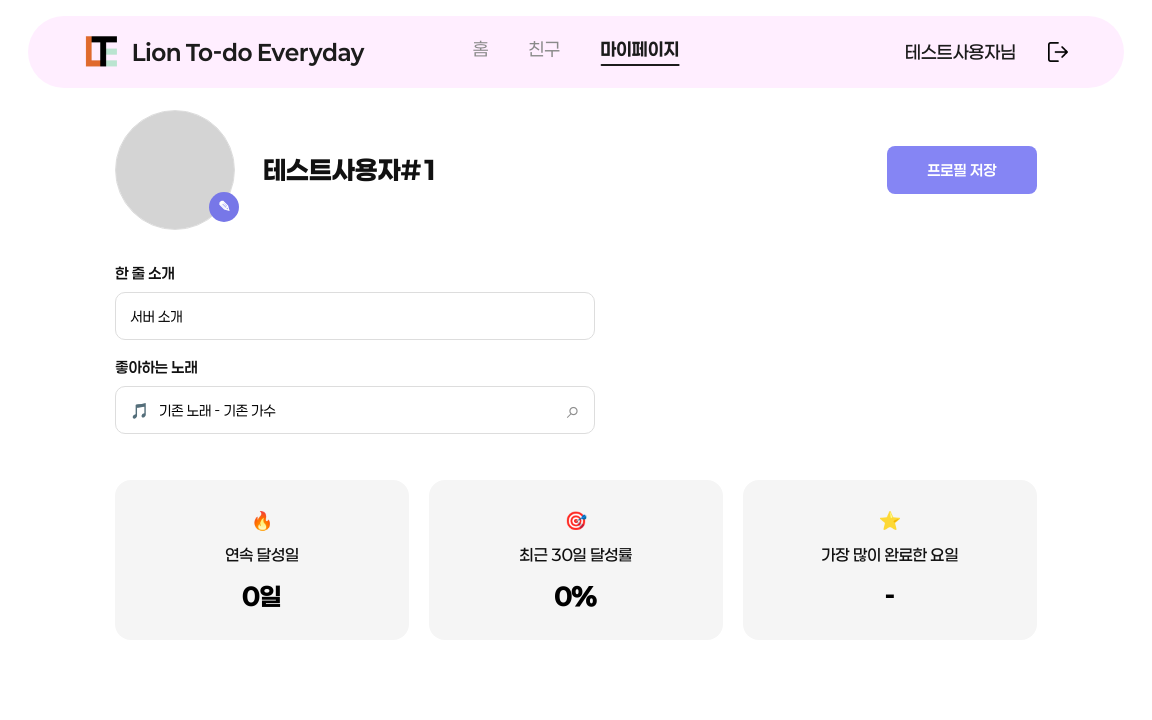
노래 저장만 실패하면 이미 저장된 소개와 실패한 변경을 구분해 표시한다
This screenshot has width=1152, height=720.
Step 1. Replace the text in the field labelled "한 줄 소개" with "소개만 저장" → (355, 316), box [115,292,595,340]
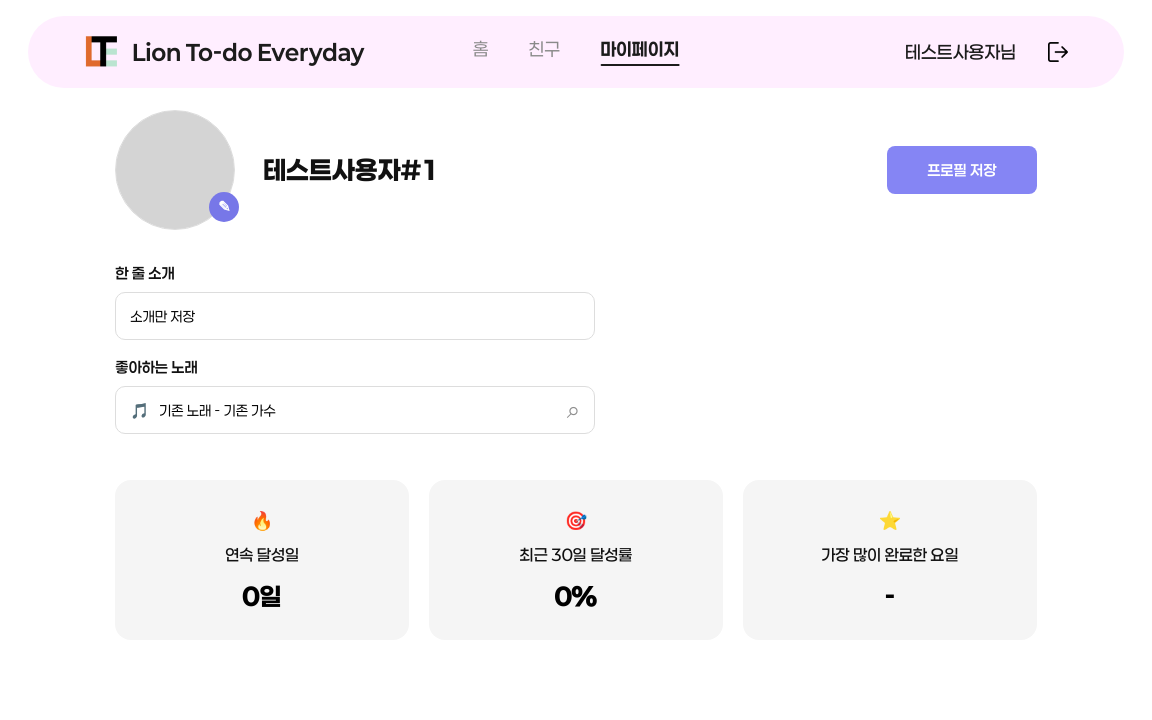
Step 2. Replace the text in the field labelled "좋아하는 노래" with "새 노래" → (362, 410), box [157,400,567,420]
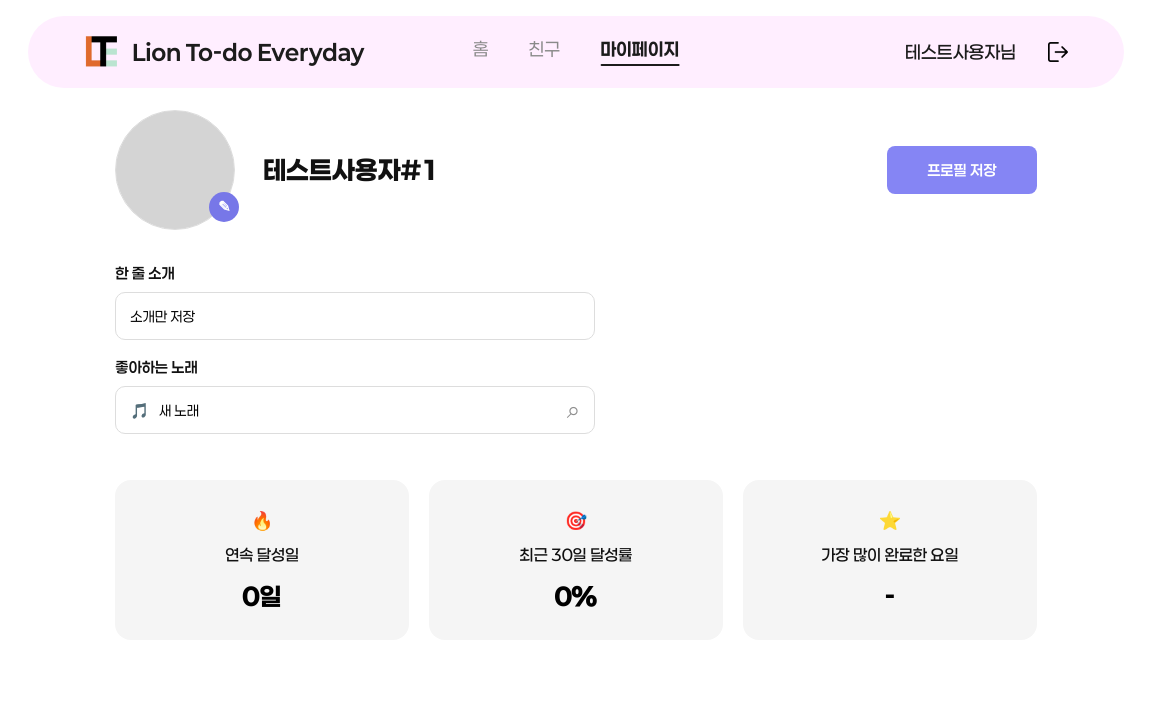
Step 3. Click the button named "노래 검색" → (574, 410), box [567,396,580,424]
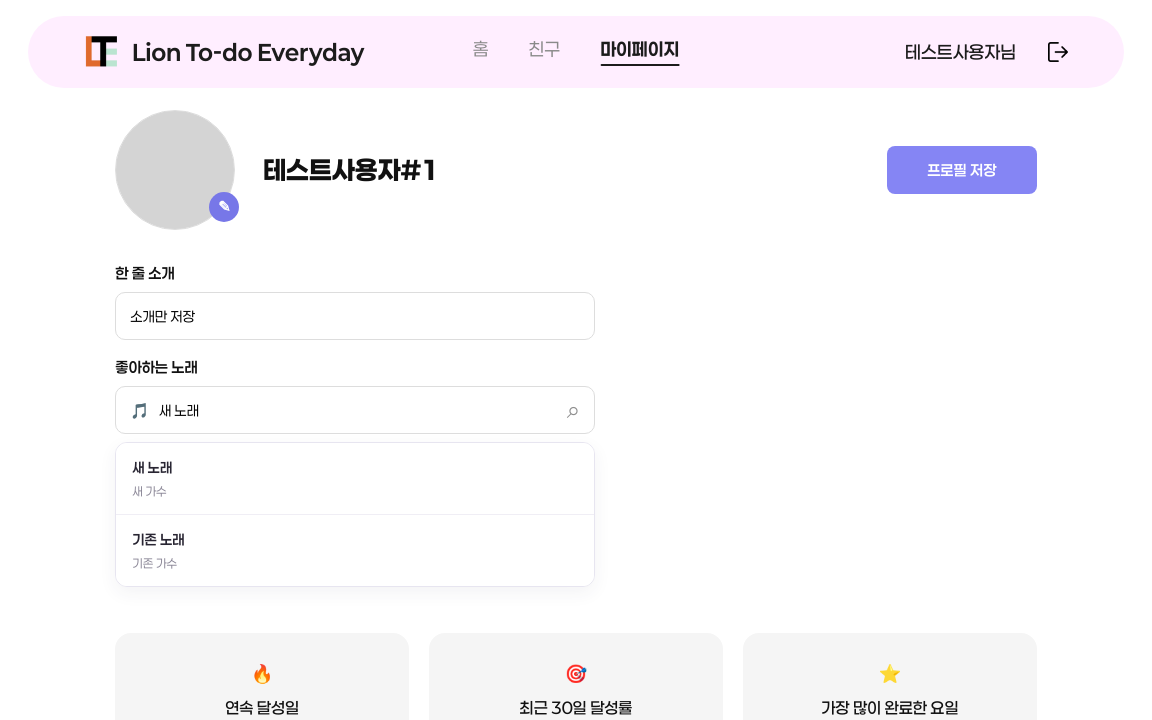
Step 4. Click the button "새 노래 새 가수" → (152, 468), box [116,443,594,515]
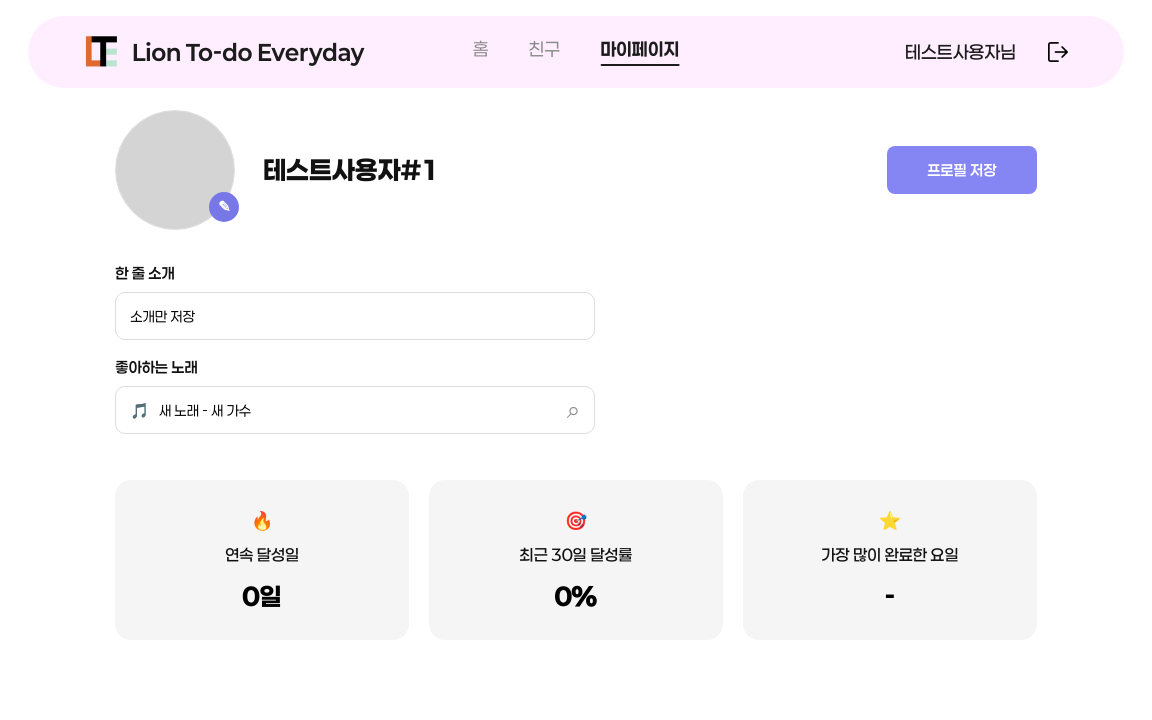
Step 5. Click the button "프로필 저장" → (962, 170), box [887,146,1037,194]
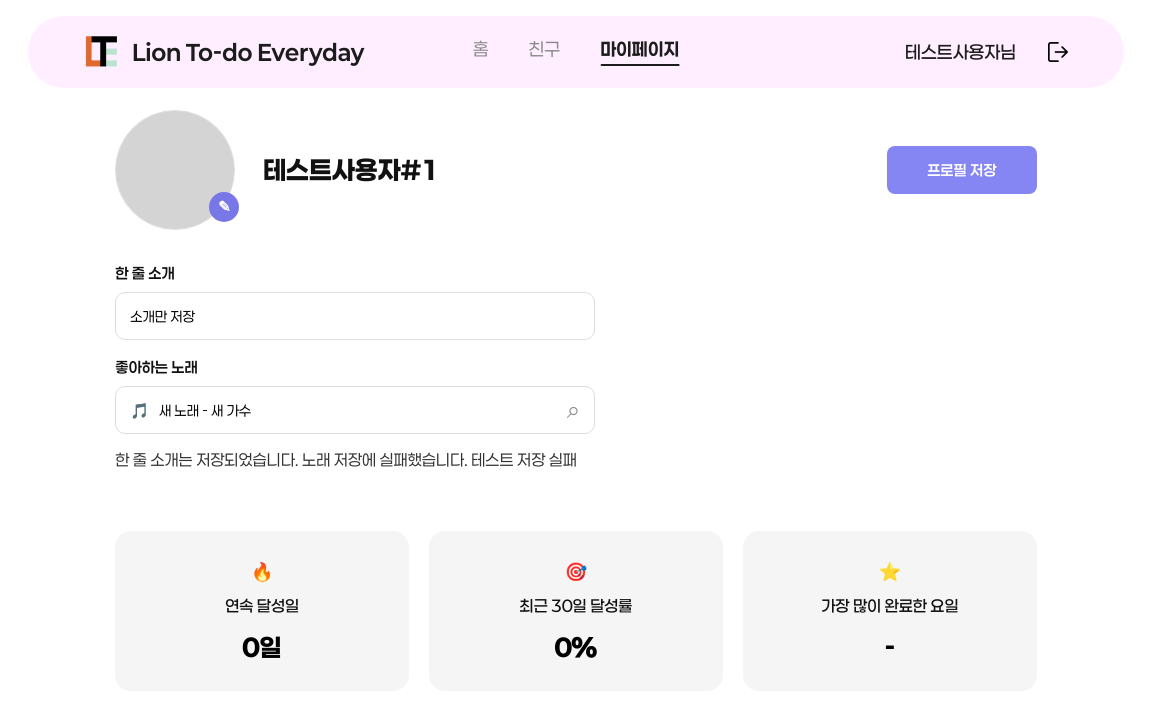
Now the message shows "한 줄 소개는 저장되었습니다. 노래 저장에 실패했습니다.", box [115,450,577,469]
